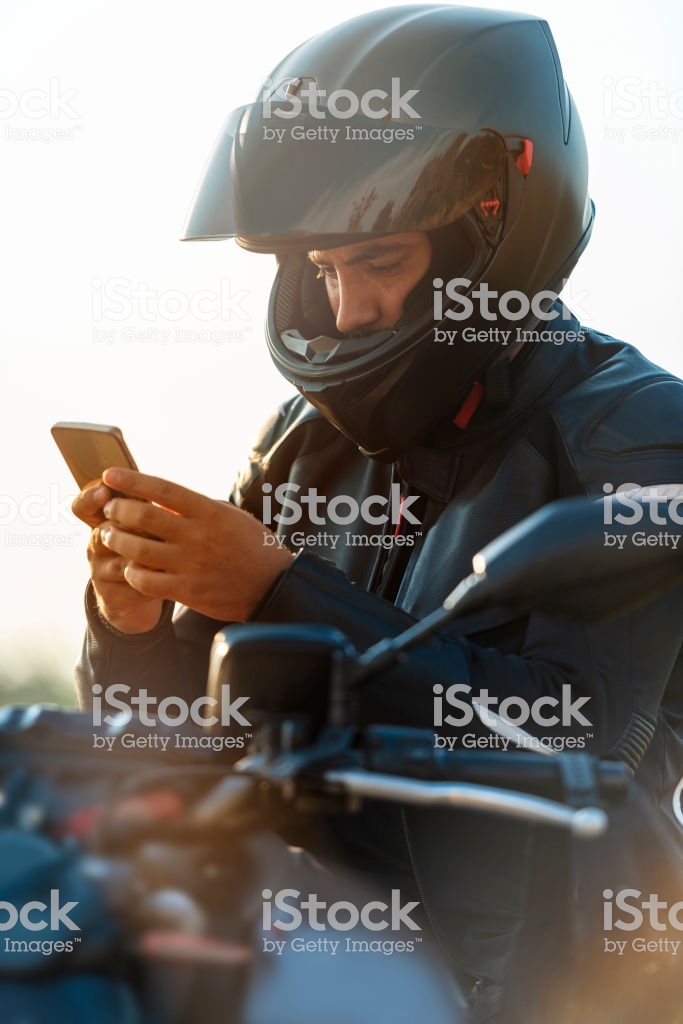helmet: (239, 15, 575, 409)
